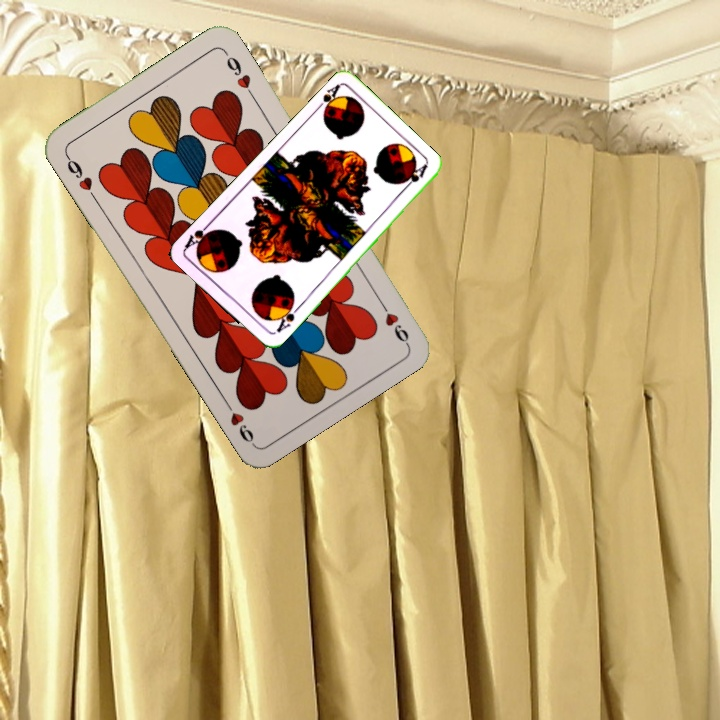H9: (373, 293, 412, 347), (61, 150, 99, 202)
SA: (311, 80, 344, 119), (270, 299, 302, 336)
